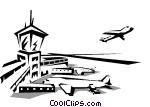aeroplane: (41, 74, 113, 96), (99, 20, 134, 44)
